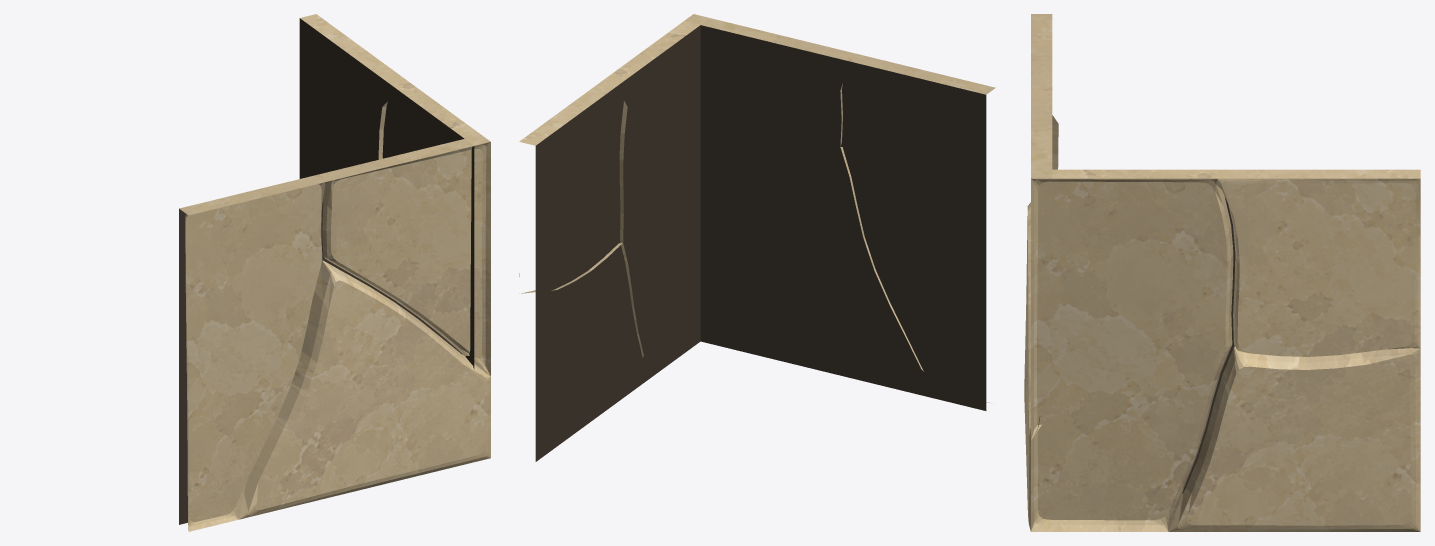
Rendered from ground_square_corner_09.glb.
3 views of the same model, side by side, from view 1: azimuth 30°, elevation 25°; view 2: azimuth 150°, elevation 25°; view 3: azimuth 270°, elevation 25° (orthographic). The views are drawn at different scales.
Visible parts, largest first — view 1: GroundSquareCorner09_Body; view 2: GroundSquareCorner09_Body; view 3: GroundSquareCorner09_Body.
Boxes of the visible parts, box(x1,y1,x2,y2) form: GroundSquareCorner09_Body: box(179, 14, 490, 531); GroundSquareCorner09_Body: box(519, 14, 995, 461); GroundSquareCorner09_Body: box(1024, 14, 1420, 531).
Bounding box in the file's own units: 1.02 × 1 × 1.02.
8 materials, 7 textured.
